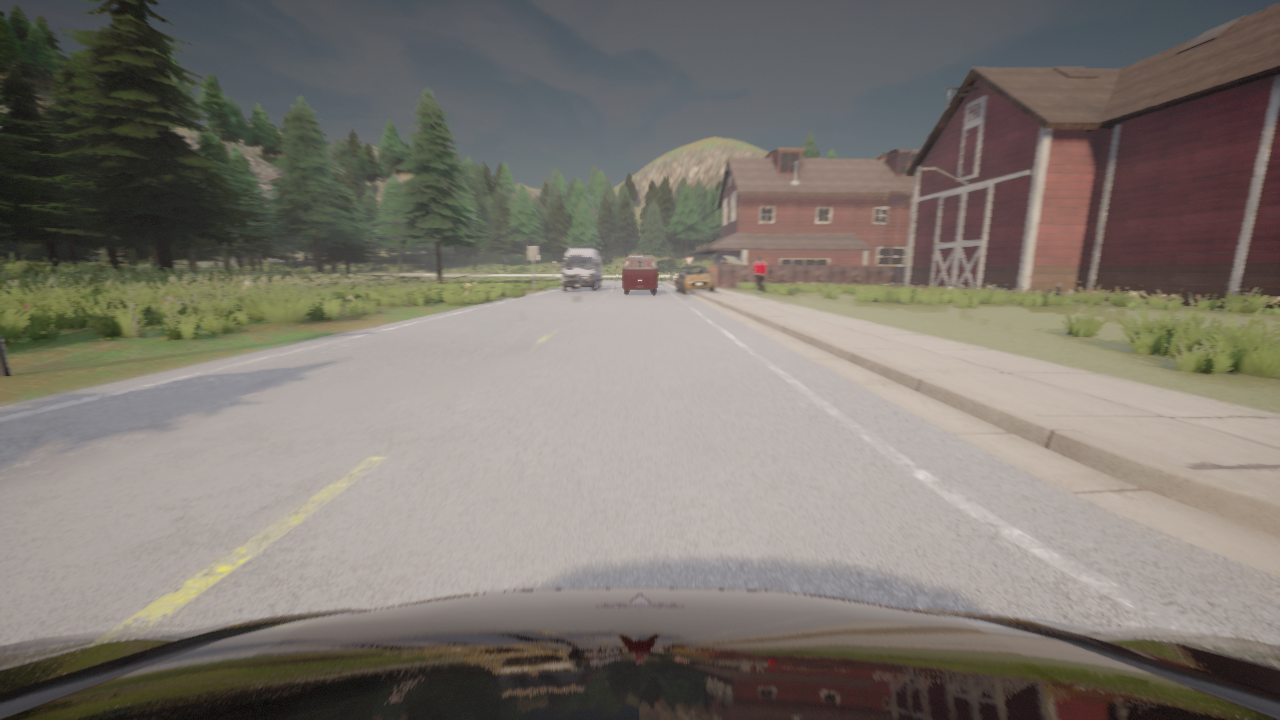cyclist: (0, 588, 1279, 719), (560, 248, 601, 291), (623, 256, 656, 294), (675, 265, 714, 294)
pedestrian: (751, 257, 766, 294)
